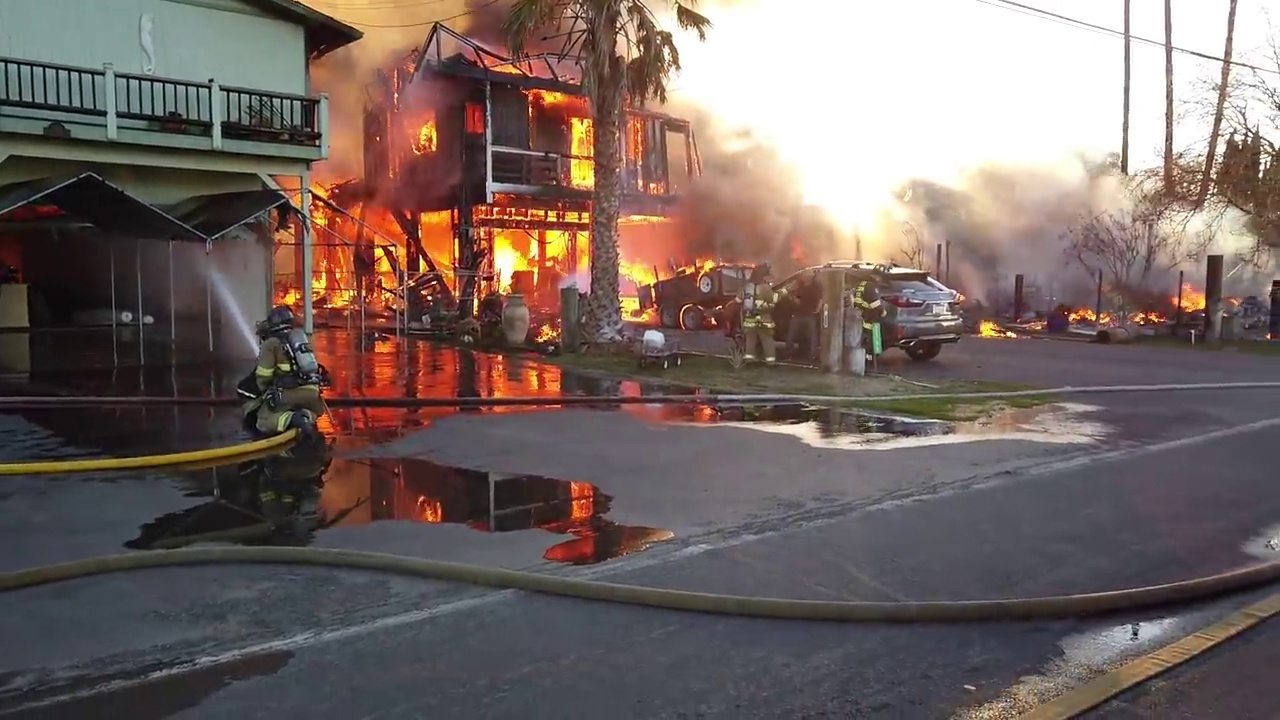fire: (273, 117, 693, 334), (507, 0, 707, 178), (564, 112, 595, 187), (406, 110, 441, 158), (683, 249, 725, 285), (976, 317, 1039, 333), (1173, 283, 1207, 312), (273, 284, 304, 311), (1066, 307, 1114, 321), (1134, 308, 1160, 320), (1266, 330, 1278, 339)
smoke: (653, 4, 915, 268), (911, 130, 1122, 289)
